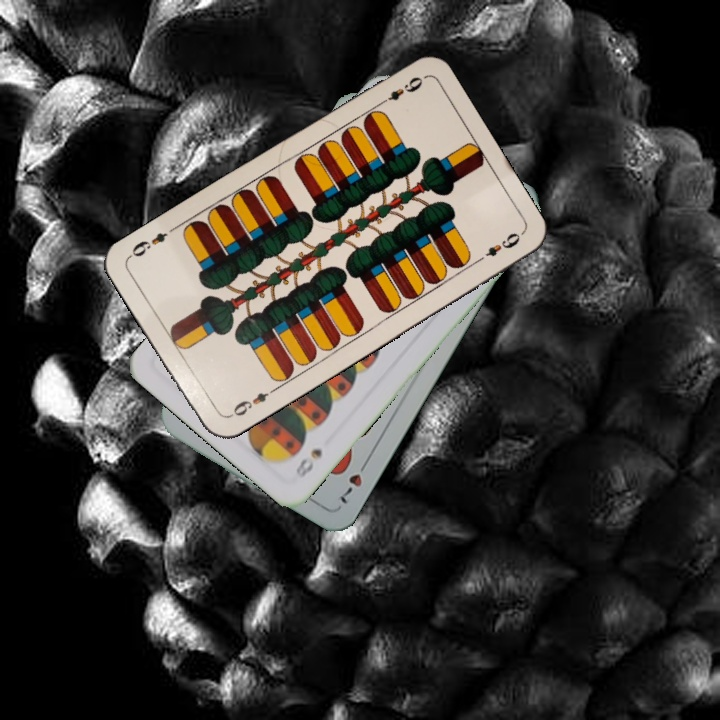E9: (224, 384, 278, 421), (373, 72, 426, 109)
H7: (334, 455, 372, 507)
S8: (292, 444, 325, 481)
